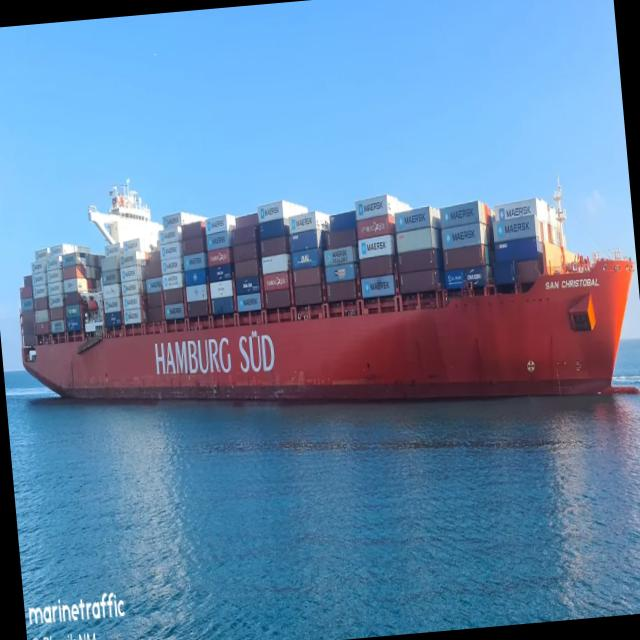Cargo: (20, 186, 633, 398)
